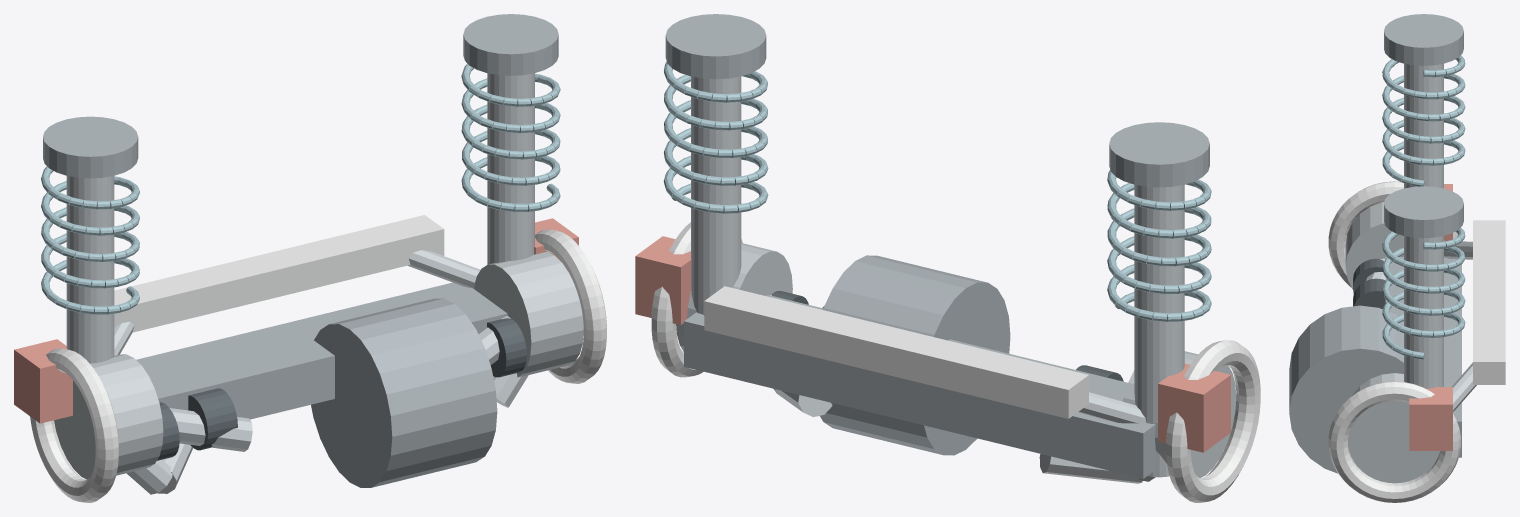
File: ix_front_axle_workshop.glb
The picture shows the model from 3 angles, left to right: view 1: azimuth 30°, elevation 25°; view 2: azimuth 150°, elevation 25°; view 3: azimuth 270°, elevation 25°; orthographic projection. The views are drawn at different scales.
Visible parts, largest first — view 1: MX:front_differential:1, MX:subframe:1, MX:steering_rack:1, MX:hub:2, MX:hub:1, MX:strut_tube:2, MX:strut_tube:1, MX:coil_spring:2, MX:coil_spring:1, MX:brake_disc:1, MX:upper_mount:1, MX:upper_mount:2 (+9 smaller); view 2: MX:subframe:1, MX:steering_rack:1, MX:front_differential:1, MX:strut_tube:2, MX:strut_tube:1, MX:brake_disc:1, MX:coil_spring:1, MX:coil_spring:2, MX:upper_mount:2, MX:upper_mount:1, MX:caliper:1, MX:caliper:2 (+6 smaller); view 3: MX:front_differential:1, MX:brake_disc:2, MX:steering_rack:1, MX:hub:2, MX:strut_tube:2, MX:coil_spring:1, MX:coil_spring:2, MX:strut_tube:1, MX:upper_mount:1, MX:upper_mount:2, MX:caliper:2, MX:hub:1 (+6 smaller).
Boxes of the visible parts, <box> form: MX:front_differential:1: <box>311,298,497,487</box>; MX:subframe:1: <box>136,282,507,419</box>; MX:steering_rack:1: <box>114,215,444,332</box>; MX:hub:2: <box>473,251,583,377</box>; MX:hub:1: <box>54,354,163,479</box>; MX:strut_tube:2: <box>487,73,534,264</box>; MX:strut_tube:1: <box>66,176,114,363</box>; MX:coil_spring:2: <box>461,64,560,211</box>; MX:coil_spring:1: <box>41,166,139,314</box>; MX:brake_disc:1: <box>30,348,118,502</box>; MX:upper_mount:1: <box>43,116,138,178</box>; MX:upper_mount:2: <box>463,14,558,75</box>; MX:subframe:1: <box>684,295,1155,478</box>; MX:steering_rack:1: <box>704,286,1088,418</box>; MX:front_differential:1: <box>820,255,1010,455</box>; MX:strut_tube:2: <box>691,76,741,314</box>; MX:strut_tube:1: <box>1134,184,1184,477</box>; MX:brake_disc:1: <box>1166,340,1260,502</box>; MX:coil_spring:1: <box>1107,170,1211,321</box>; MX:coil_spring:2: <box>663,61,768,213</box>; MX:upper_mount:2: <box>665,14,766,79</box>; MX:upper_mount:1: <box>1109,122,1209,187</box>; MX:caliper:1: <box>1158,363,1230,452</box>; MX:caliper:2: <box>635,236,691,325</box>; MX:front_differential:1: <box>1289,305,1403,473</box>; MX:brake_disc:2: <box>1328,381,1460,502</box>; MX:steering_rack:1: <box>1473,220,1505,384</box>; MX:hub:2: <box>1348,373,1440,483</box>; MX:strut_tube:2: <box>1404,236,1443,388</box>; MX:coil_spring:1: <box>1382,55,1465,186</box>; MX:coil_spring:2: <box>1382,227,1465,359</box>; MX:strut_tube:1: <box>1404,63,1443,188</box>; MX:upper_mount:1: <box>1384,14,1463,65</box>; MX:upper_mount:2: <box>1384,186,1463,238</box>; MX:caliper:2: <box>1409,387,1452,450</box>; MX:hub:1: <box>1345,202,1403,289</box>.
Size of the model in its own units: 2.87 by 1.9 by 1.19.
